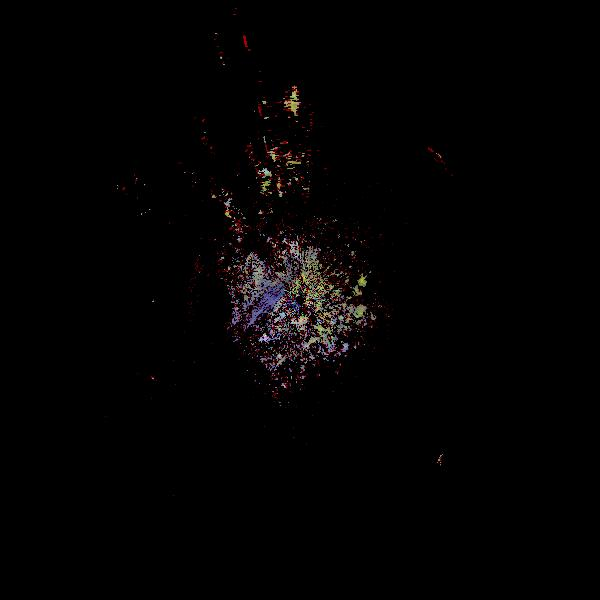roost: (432, 443, 477, 488)
